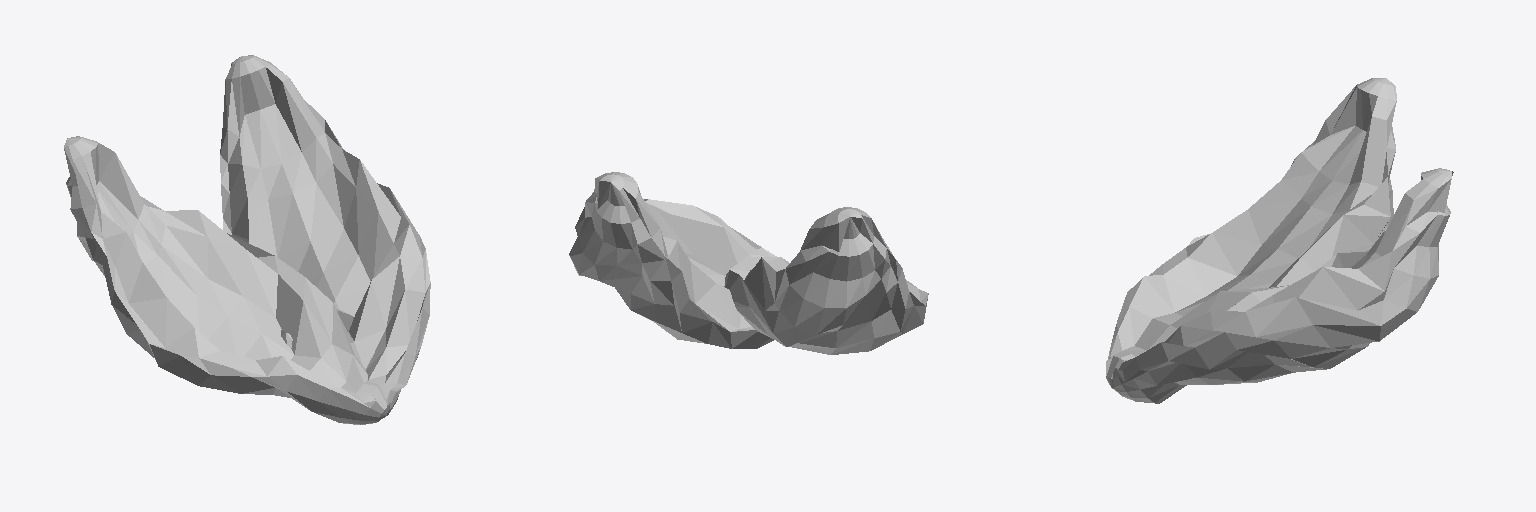
Rendered from twoPetals.obj.
The picture shows the model from 3 angles: view 1: azimuth 30°, elevation 25°; view 2: azimuth 150°, elevation 25°; view 3: azimuth 270°, elevation 25°; orthographic projection.
Visible parts, largest first — view 1: pSphere1 group1, group1 pSphere2; view 2: group1 pSphere2, pSphere1 group1; view 3: pSphere1 group1, group1 pSphere2.
Boxes of the visible parts, <box> form: pSphere1 group1: <box>64,136,390,424</box>; group1 pSphere2: <box>220,55,430,417</box>; group1 pSphere2: <box>569,172,776,348</box>; pSphere1 group1: <box>720,207,928,354</box>; pSphere1 group1: <box>1106,78,1396,391</box>; group1 pSphere2: <box>1113,168,1453,403</box>.
Bounding box in the file's own units: 3.22 × 2.47 × 3.21.